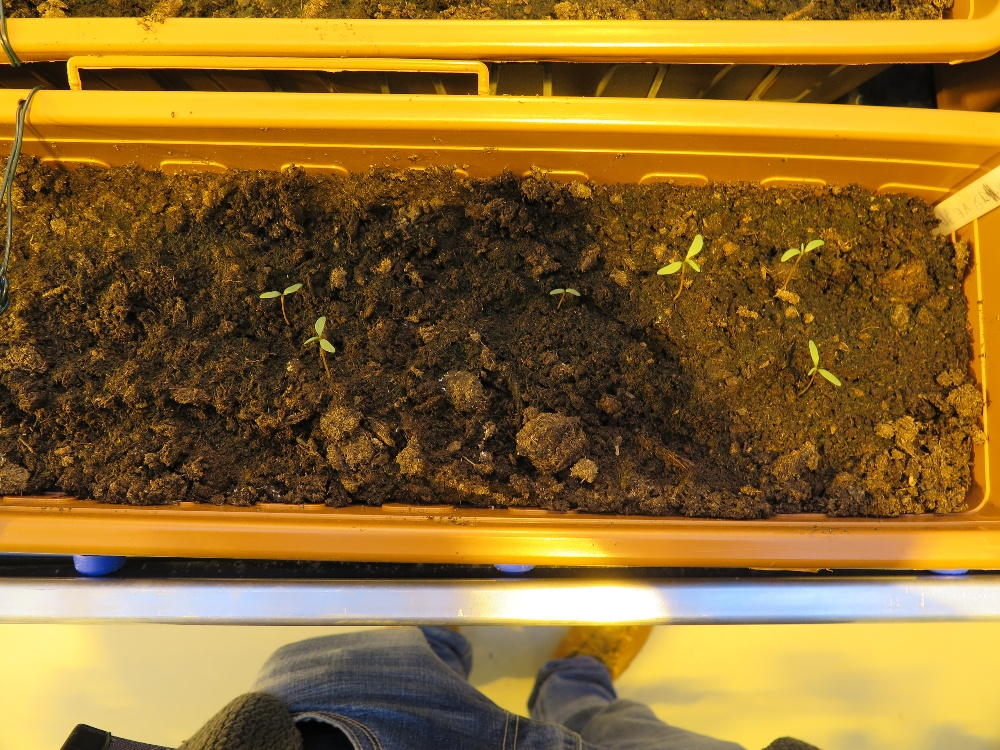weed: (656, 232, 704, 276), (805, 338, 842, 387), (303, 314, 337, 355), (780, 238, 825, 263), (257, 281, 304, 301), (548, 286, 582, 297)
